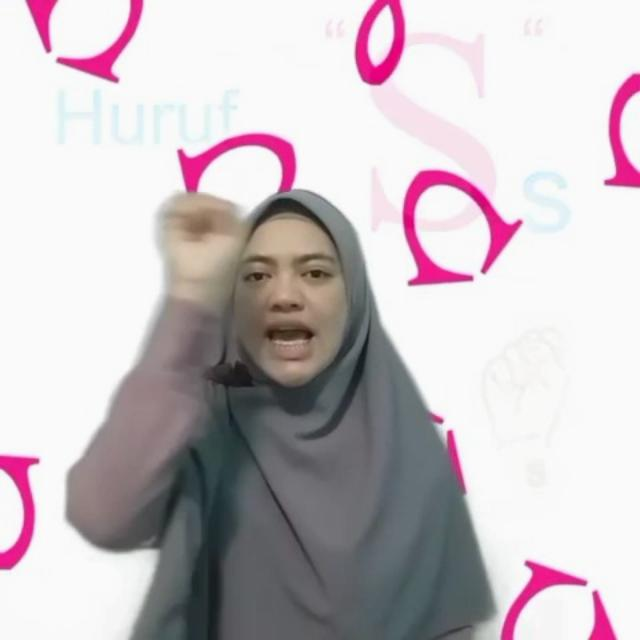S: (146, 180, 248, 302)
